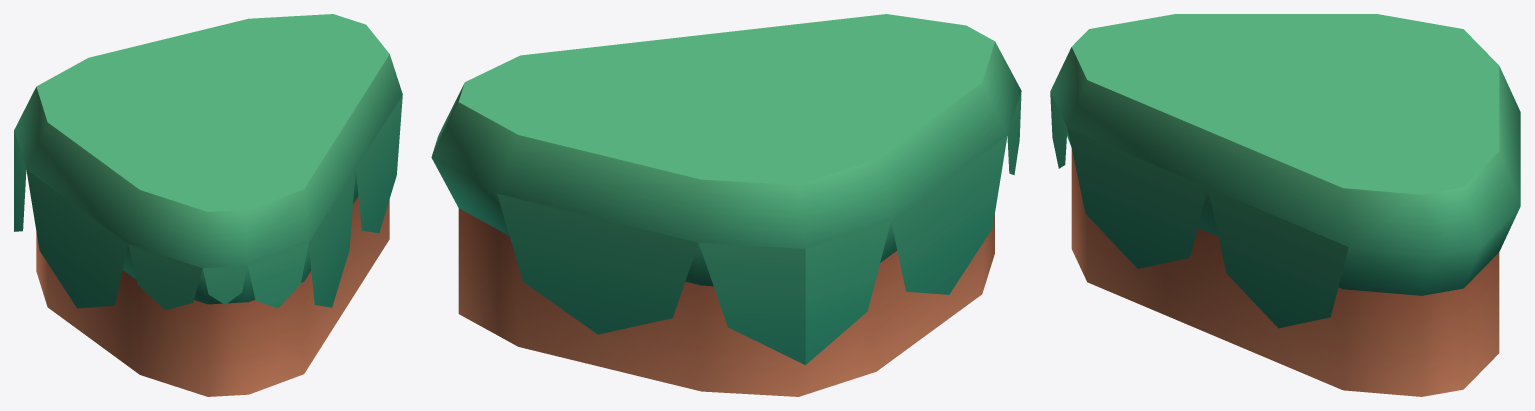
The model's file is kenney-platformer-block-grass-corner-overhang-low.glb.
The picture shows the model from 3 angles, left to right: view 1: azimuth 30°, elevation 25°; view 2: azimuth 150°, elevation 25°; view 3: azimuth 270°, elevation 25°; orthographic projection. The views are drawn at different scales.
Visible parts, largest first — view 1: block-grass-corner-overhang-low; view 2: block-grass-corner-overhang-low; view 3: block-grass-corner-overhang-low.
Boxes of the visible parts, x1,y1,x2,y2 form: block-grass-corner-overhang-low: (14,14,402,396); block-grass-corner-overhang-low: (431,14,1021,396); block-grass-corner-overhang-low: (1050,14,1520,396).
Size of the model in its own units: 1.05 by 0.5 by 1.05.
Materials: 1 (1 with a texture image).
